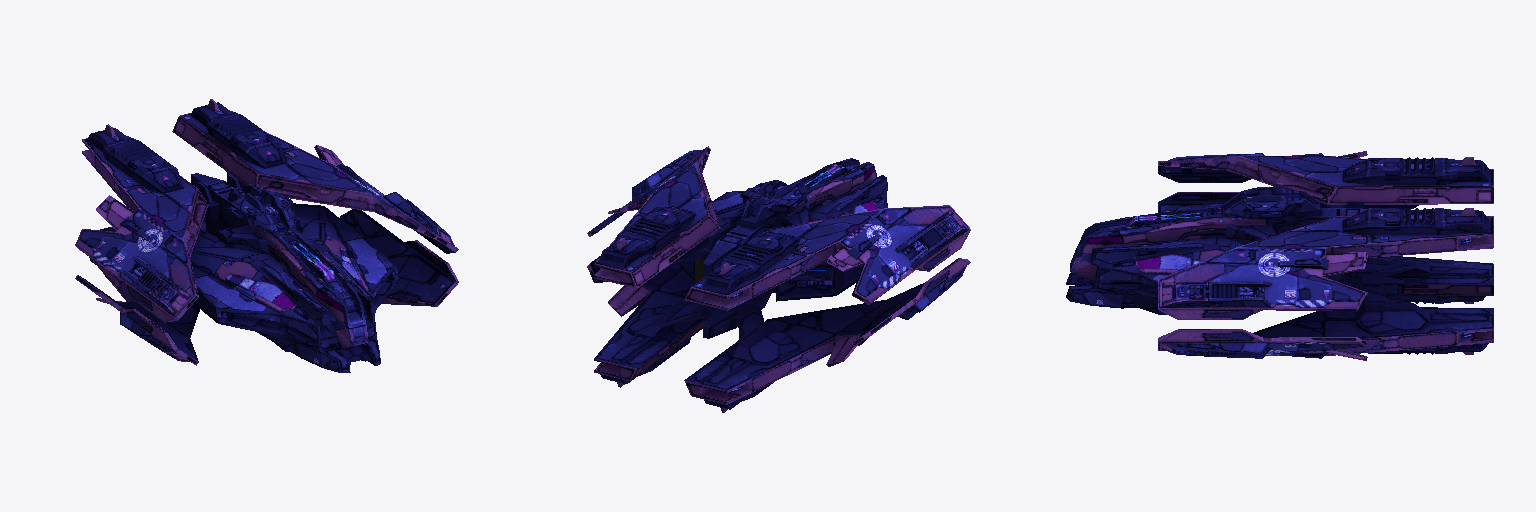
3 renders of one model, left to right at view 1: azimuth 30°, elevation 25°; view 2: azimuth 150°, elevation 25°; view 3: azimuth 270°, elevation 25°, orthographic.
Visible parts, largest first — view 1: SciFi_Fighter; view 2: SciFi_Fighter; view 3: SciFi_Fighter.
Part boxes in pixels (left/top/right/bottom): SciFi_Fighter: left=75, top=99, right=458, bottom=372; SciFi_Fighter: left=587, top=146, right=970, bottom=412; SciFi_Fighter: left=1066, top=151, right=1493, bottom=360.
Size of the model in its own units: 15.44 by 7.48 by 19.82.
Materials: 1 (1 with a texture image).